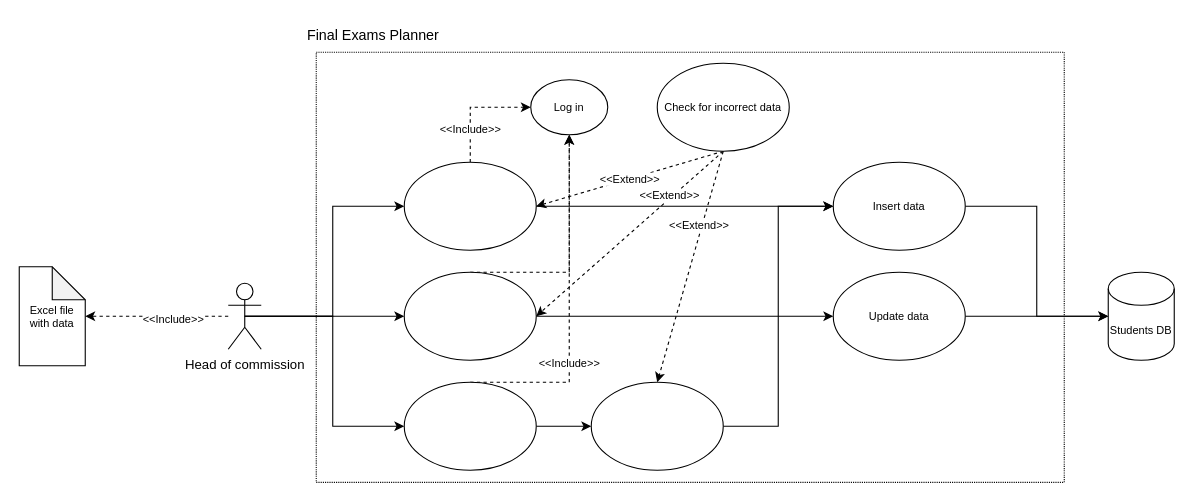
This 1194x502 diagram has some shape labels left out. The centre of each missing label's shape, as x and y in pixels:
"Algorithm for planning" belongs at (656,425).
"Edit data related to students' undergraduate theses" belongs at (469,315).
"Import data related to students' undergraduate theses" belongs at (469,205).
"Plan the students presentations ( day and hour )" belongs at (469,425).
